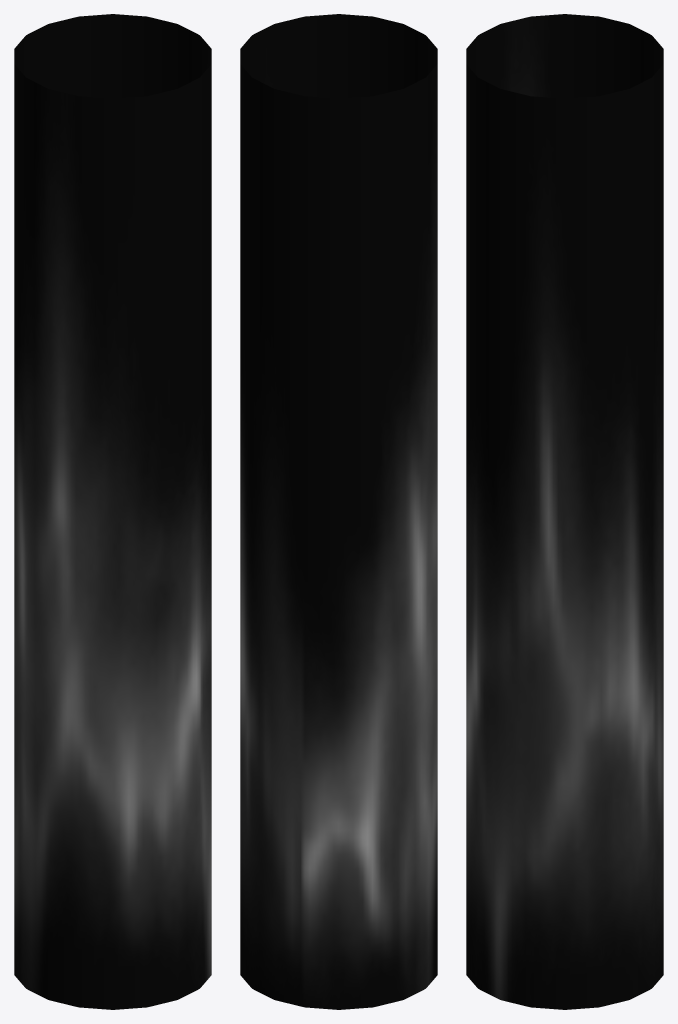
3 views of the same model, side by side, from view 1: azimuth 30°, elevation 25°; view 2: azimuth 150°, elevation 25°; view 3: azimuth 270°, elevation 25° (orthographic).
Visible parts, largest first — view 1: Cylinder002; view 2: Cylinder002; view 3: Cylinder002.
Part boxes in pixels (x1,y1,x2,y2): Cylinder002: (14,14,211,1009); Cylinder002: (240,14,437,1009); Cylinder002: (466,14,663,1009).
Bounding box in the file's own units: 0.4191 × 2.1 × 0.4127.
